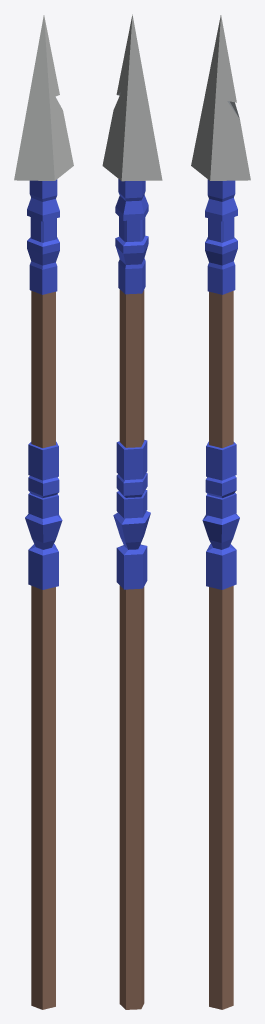
Rendered from spear-type-02.obj.
3 views of the same model, side by side, from view 1: azimuth 30°, elevation 25°; view 2: azimuth 150°, elevation 25°; view 3: azimuth 330°, elevation 25° (orthographic).
Visible parts, largest first — view 1: spear-type-02; view 2: spear-type-02; view 3: spear-type-02.
Part boxes in pixels (x1,y1,x2,y2): spear-type-02: [14, 15, 73, 1009]; spear-type-02: [102, 14, 162, 1009]; spear-type-02: [191, 15, 250, 1009].
Size of the model in its own units: 0.0834 by 1.32 by 0.0524.
